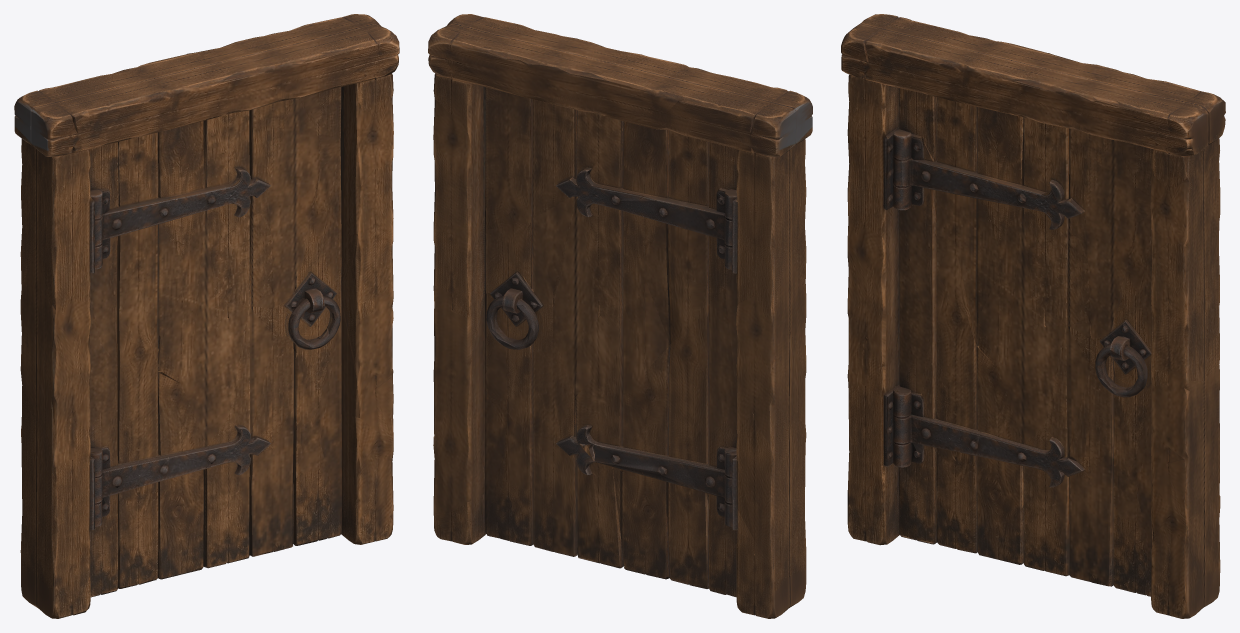
File: cellar-door.glb
3 views of the same model, side by side, from view 1: azimuth 30°, elevation 25°; view 2: azimuth 150°, elevation 25°; view 3: azimuth 330°, elevation 25° (orthographic).
Bounding box in the file's own units: 1.39 × 1.9 × 0.2696.
1 material, 1 textured.
